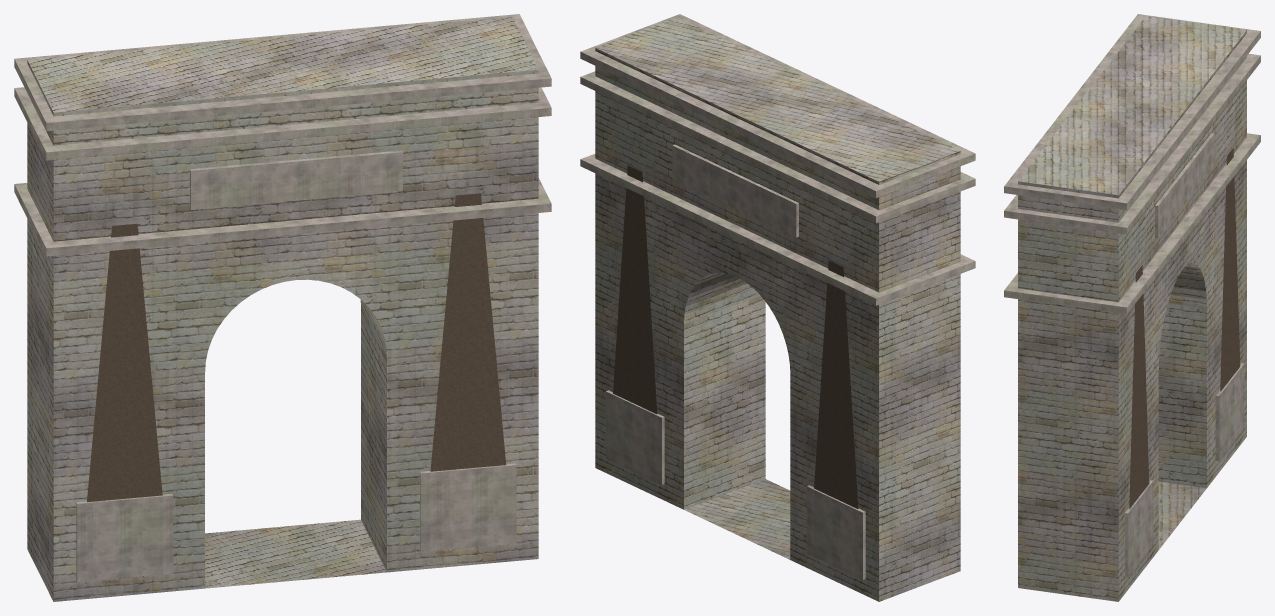
The model's file is porte-saint-denis.glb.
3 renders of one model, left to right at view 1: azimuth 30°, elevation 25°; view 2: azimuth 150°, elevation 25°; view 3: azimuth 270°, elevation 25°, orthographic. The views are drawn at different scales.
Visible parts, largest first — view 1: stone, trim, metal; view 2: stone, trim, metal; view 3: stone, trim, metal.
Boxes of the visible parts, left/top/right/bottom form: stone: left=27, top=17, right=538, bottom=601; trim: left=14, top=14, right=551, bottom=582; metal: left=87, top=193, right=506, bottom=501; stone: left=595, top=17, right=960, bottom=601; trim: left=580, top=14, right=975, bottom=579; metal: left=613, top=165, right=858, bottom=508; stone: left=1018, top=16, right=1246, bottom=601; trim: left=1004, top=14, right=1260, bottom=578; metal: left=1129, top=148, right=1240, bottom=508.
Bounding box in the file's own units: 24.96 × 25 × 14.3.
3 materials, 3 textured.
